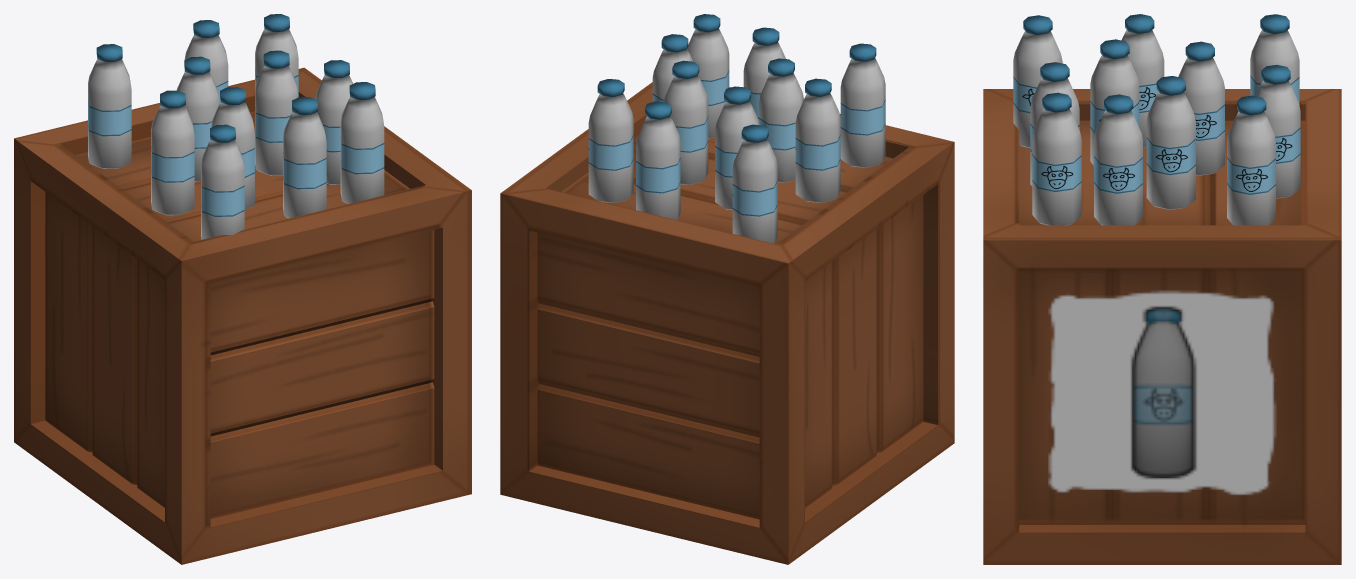
Rendered from caixa leite (1).fbx.
3 renders of one model, left to right at view 1: azimuth 30°, elevation 25°; view 2: azimuth 150°, elevation 25°; view 3: azimuth 270°, elevation 25°, orthographic. The views are drawn at different scales.
Visible parts, largest first — view 1: Caixas.008; view 2: Caixas.008; view 3: Caixas.008.
Boxes of the visible parts, x1,y1,x2,y2 form: Caixas.008: (14,14,471,564); Caixas.008: (500,14,954,564); Caixas.008: (983,14,1341,564).
Size of the model in its own units: 200 by 263 by 200.
2 materials, 2 textured.
